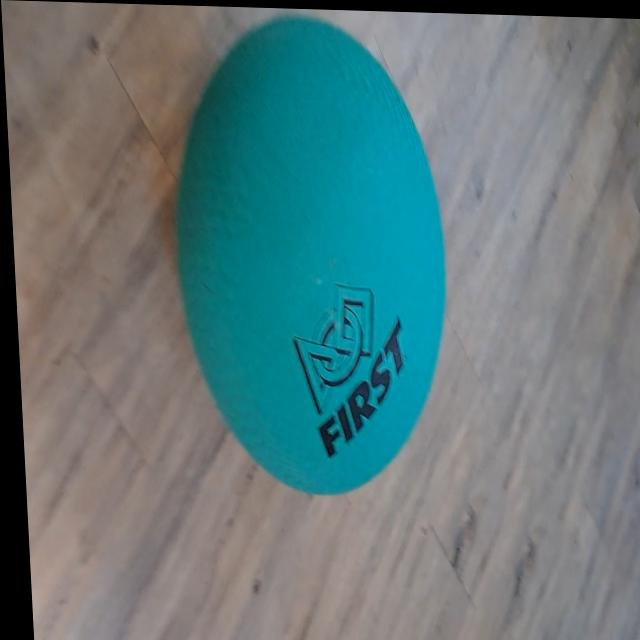ALGAE: (161, 10, 459, 502)
